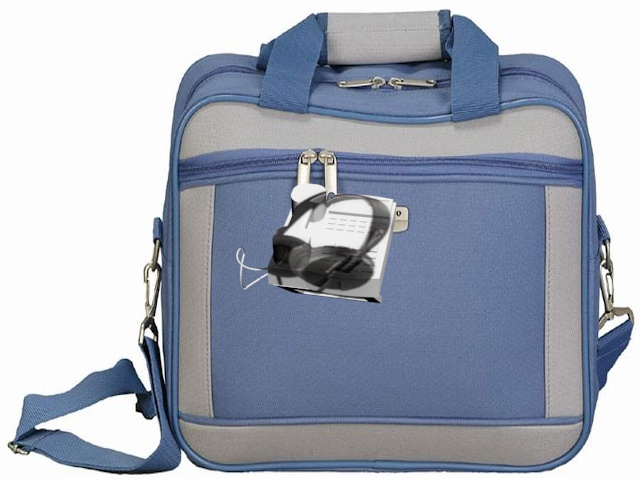phone: (233, 179, 400, 304)
